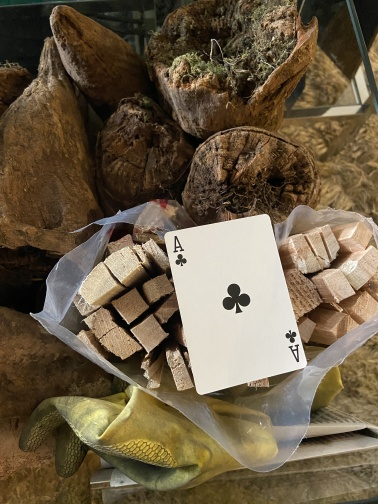ace: (162, 213, 309, 396)
